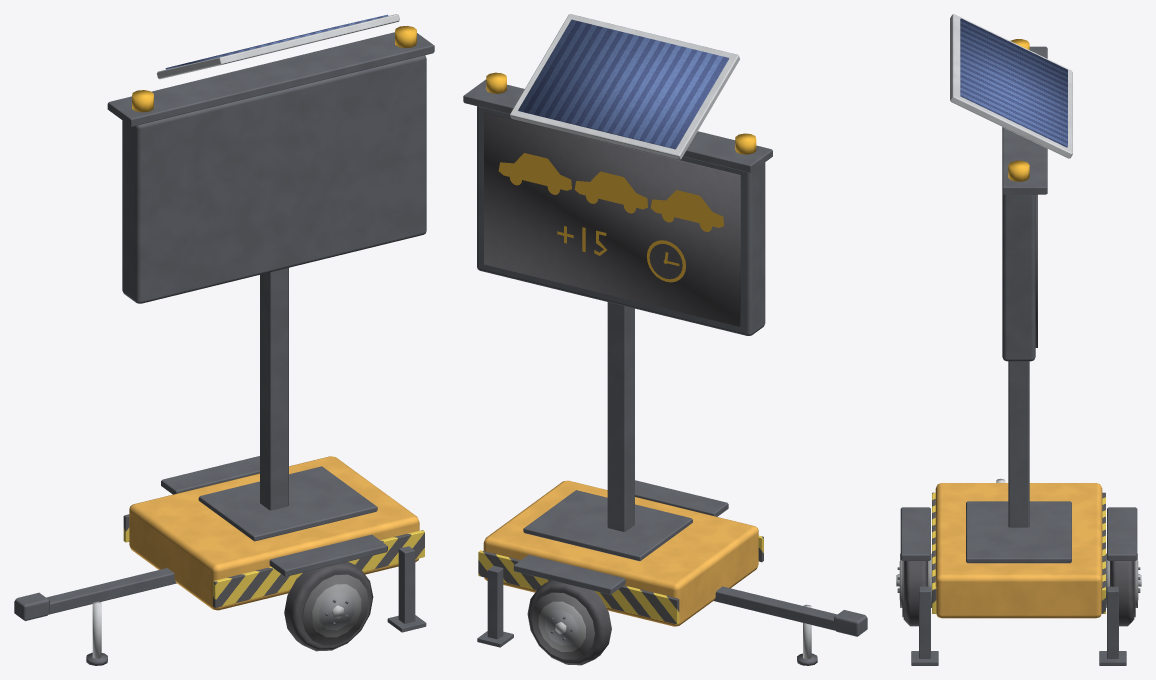
Rendered from Transito_MessageBoard.fbx.
The picture shows the model from 3 angles, left to right: view 1: azimuth 30°, elevation 25°; view 2: azimuth 150°, elevation 25°; view 3: azimuth 270°, elevation 25°; orthographic projection. The views are drawn at different scales.
Visible parts, largest first — view 1: Transito_MessageBoard; view 2: Transito_MessageBoard; view 3: Transito_MessageBoard.
Part boxes in pixels (x1,y1,x2,y2): Transito_MessageBoard: [14, 14, 434, 665]; Transito_MessageBoard: [463, 14, 867, 665]; Transito_MessageBoard: [896, 14, 1141, 665].
Bounding box in the file's own units: 2.95 × 4.13 × 1.62.
Materials: 1 (1 with a texture image).
